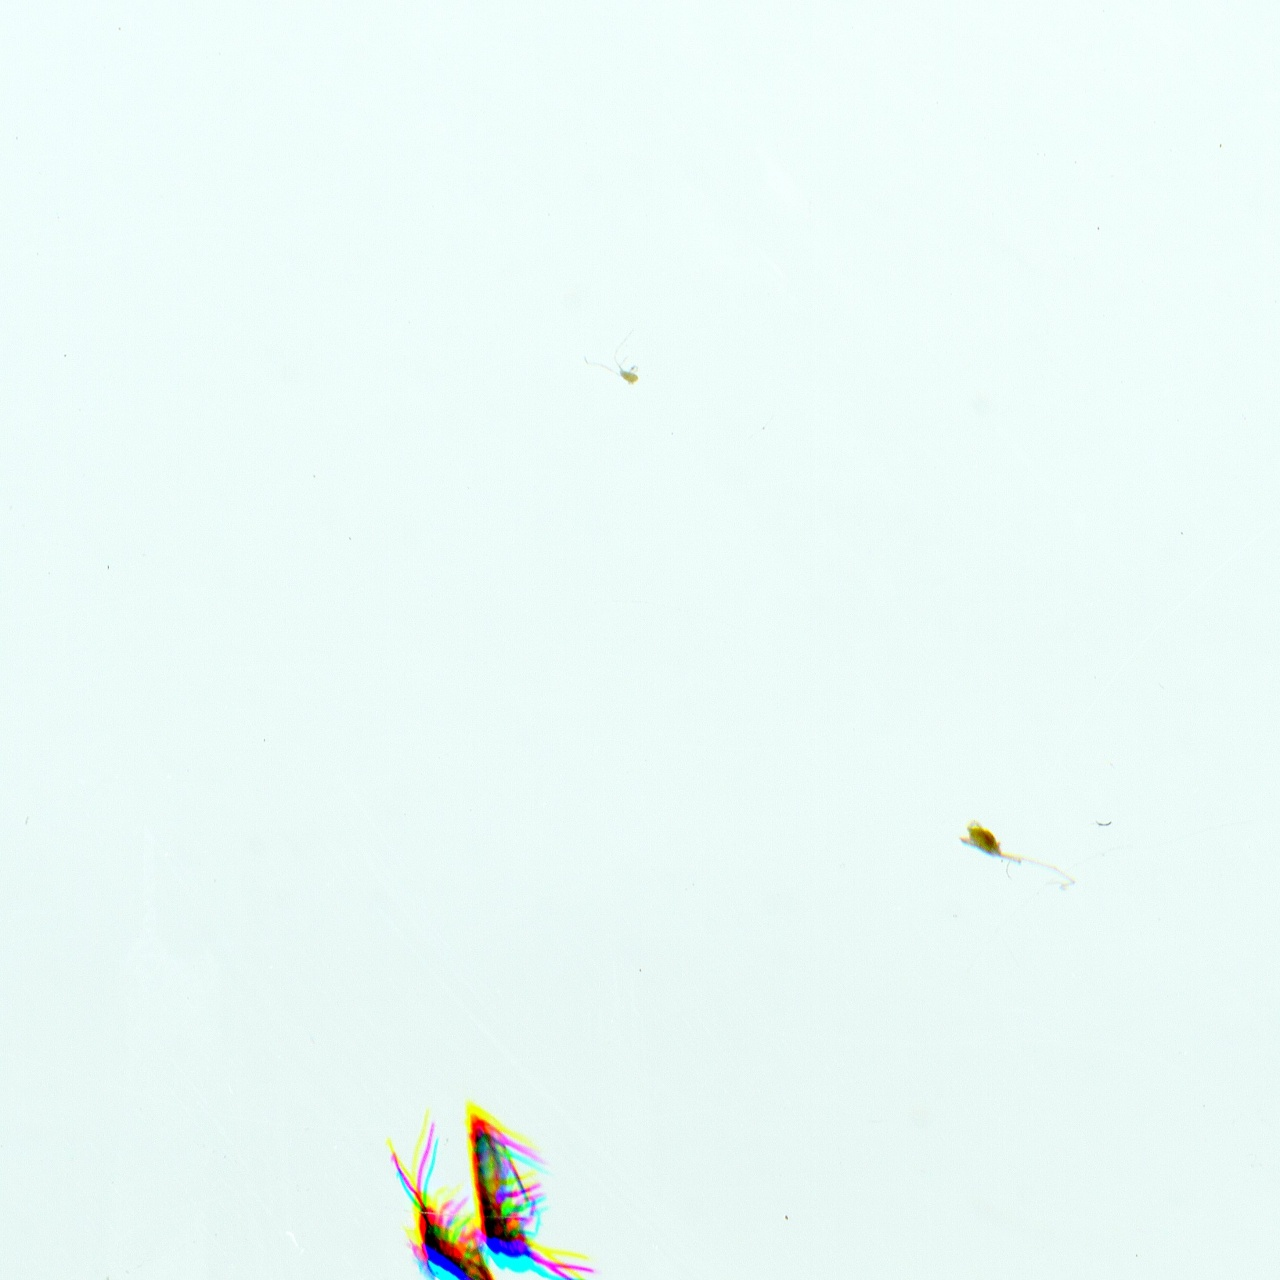arthropod: (349, 1098, 535, 1280), (462, 1101, 626, 1280), (933, 810, 1098, 912), (579, 325, 647, 389)
